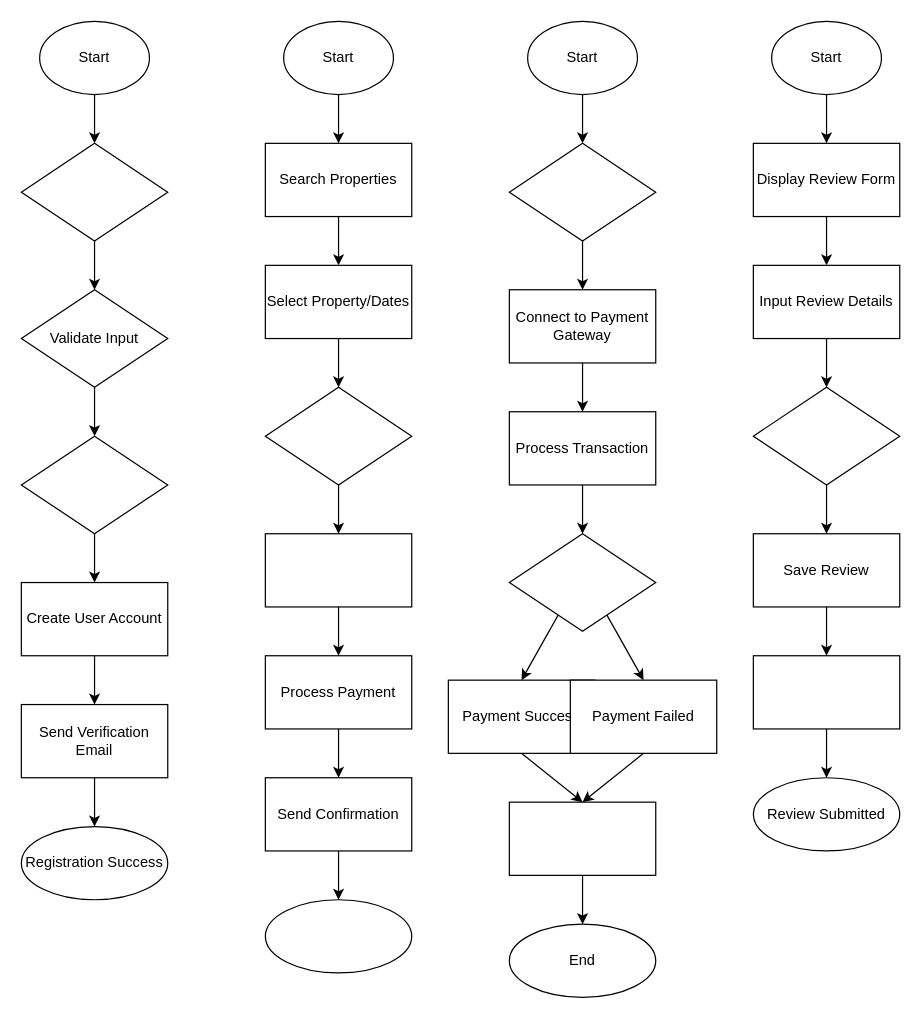
Image size: 921x1019. Some labels were removed from this diagram. The box of each missing label's shape, as (x1, y1, x2, y2) in pixels:
Booking Complete: (264, 899, 412, 973)
Check Availability: (264, 386, 412, 485)
Check Email Exists: (20, 435, 168, 534)
Display Registration Form: (20, 142, 168, 241)
Enter Booking Details: (264, 533, 412, 607)
Handle Response: (508, 533, 656, 631)
Notify Host: (752, 655, 900, 729)
Notify User: (508, 801, 656, 875)
Validate Review: (752, 386, 900, 485)
Verify Payment Details: (508, 142, 656, 241)
